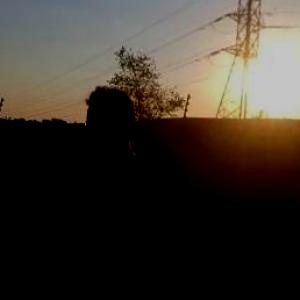follow: (45, 80, 177, 299)
